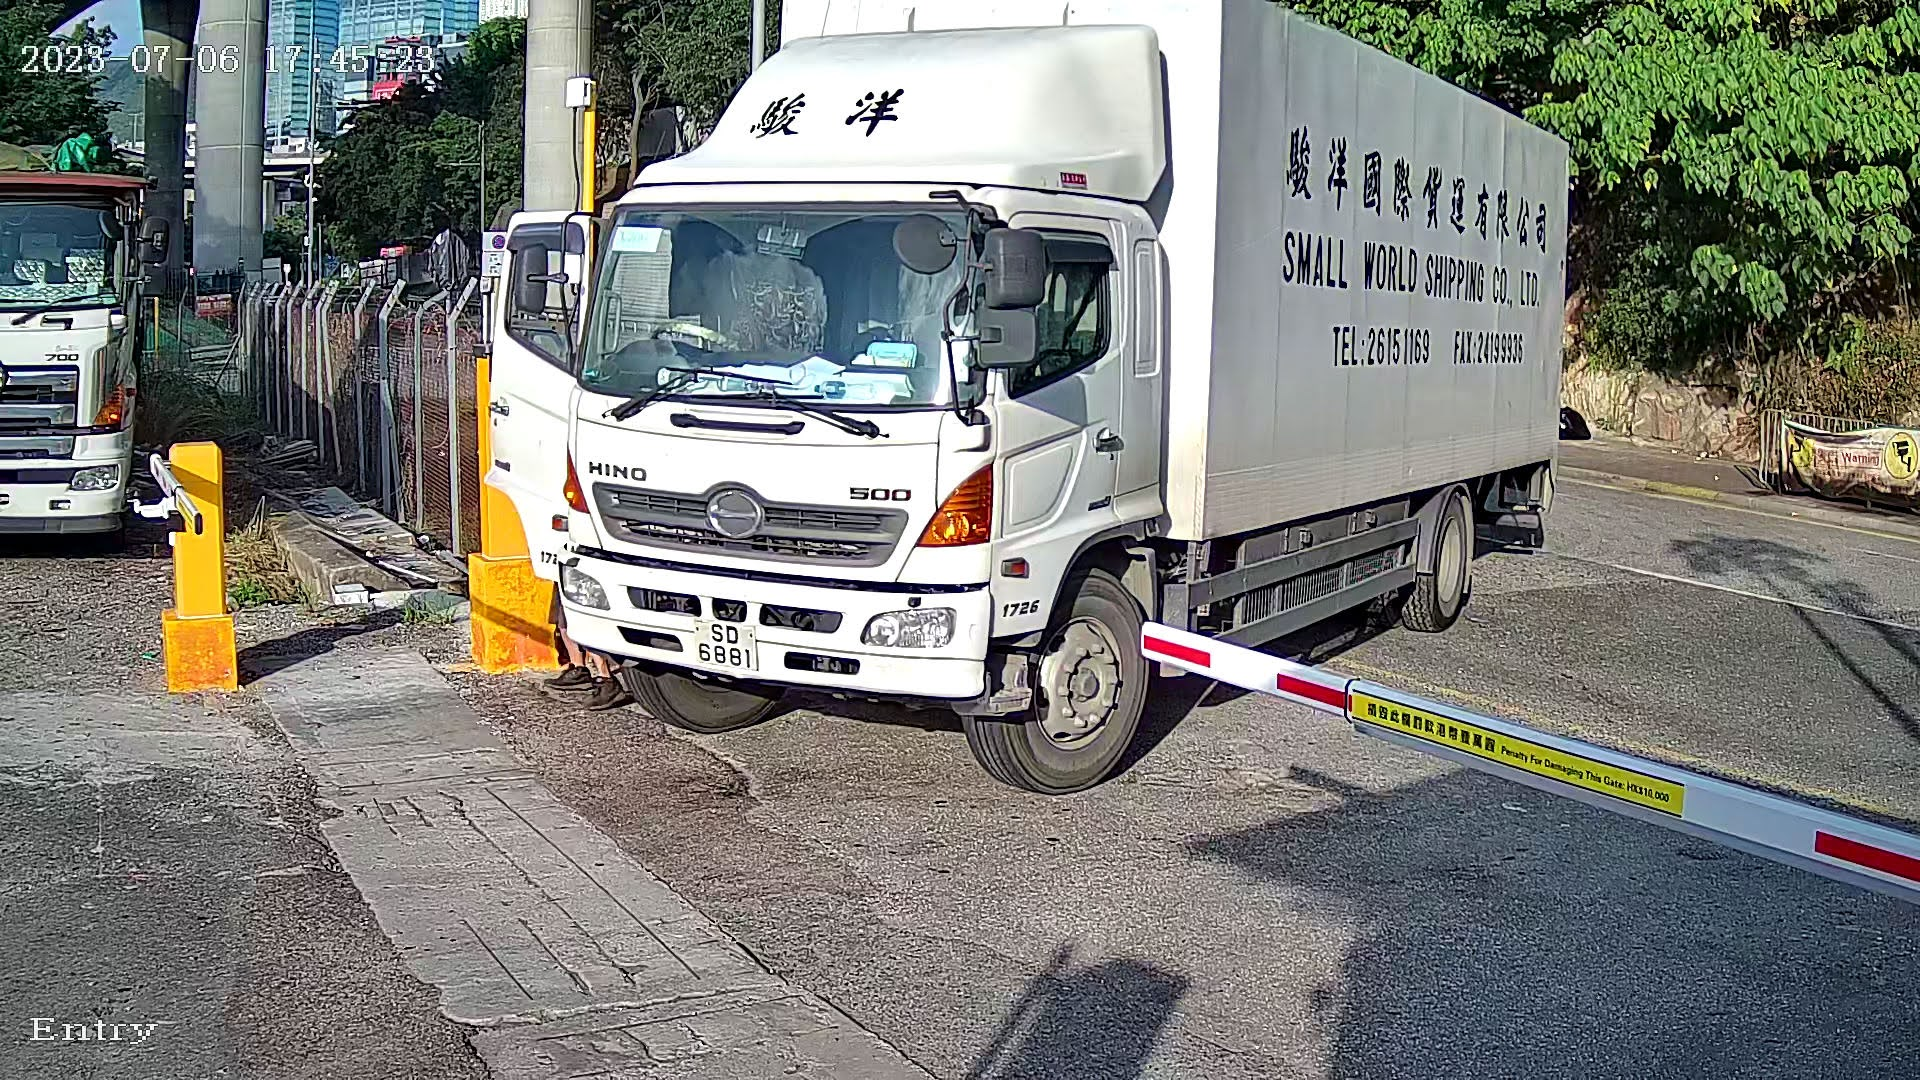truck: (409, 1, 1586, 804)
